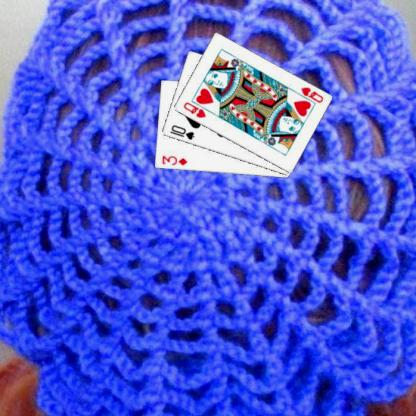10S: (167, 122, 195, 141)
3D: (159, 153, 188, 167)
QH: (292, 85, 324, 106), (180, 100, 206, 119)
